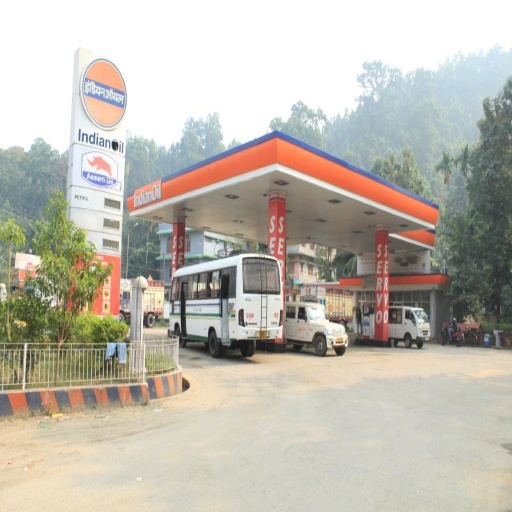roof: (126, 131, 438, 252)
